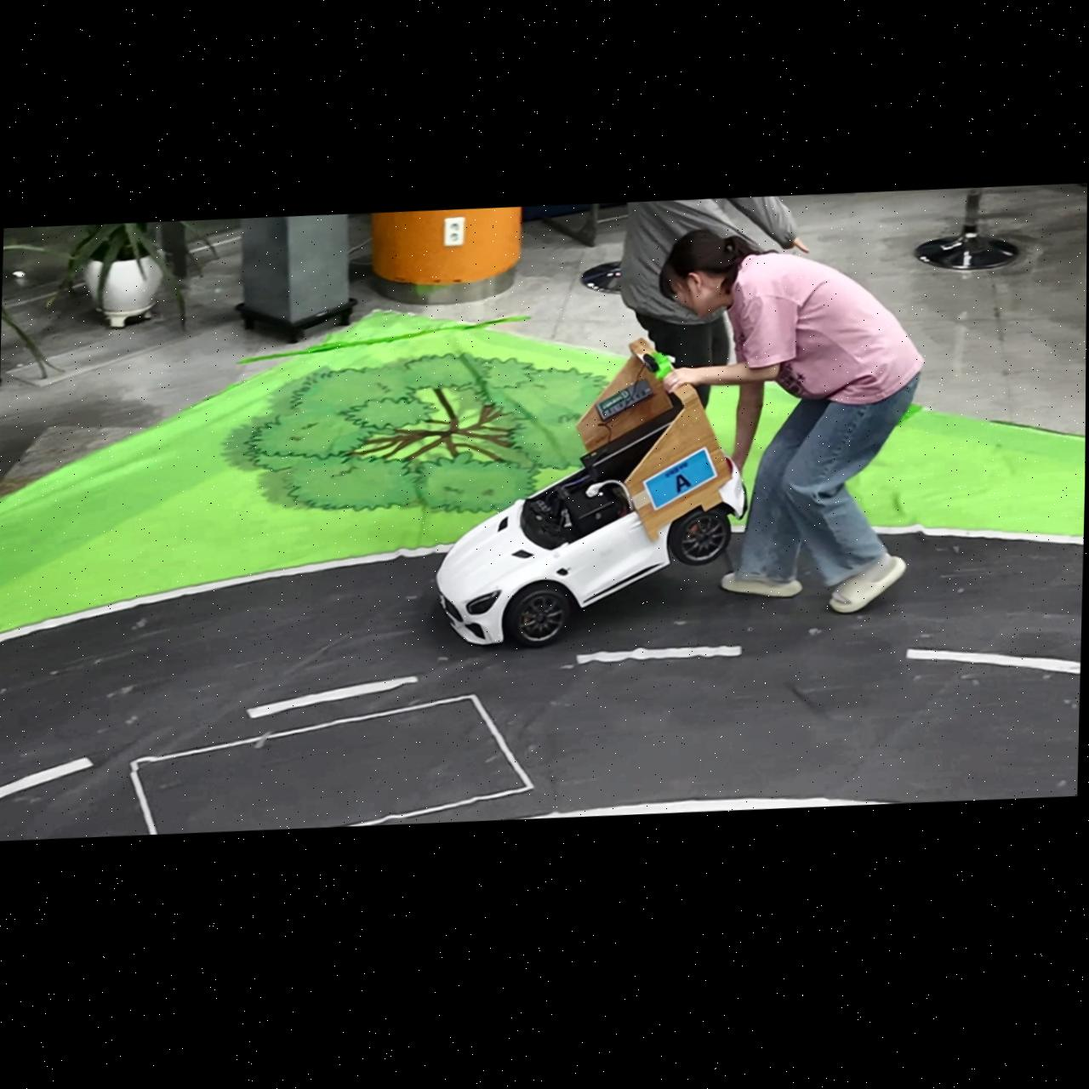broken_line: (246, 676, 418, 718), (906, 649, 1080, 674), (0, 757, 94, 798), (576, 645, 742, 664)
